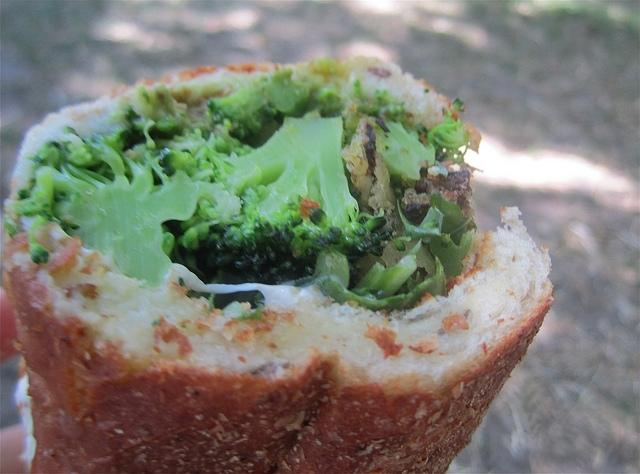broccoli: (15, 106, 244, 286), (180, 116, 412, 284), (356, 90, 469, 198), (253, 66, 320, 118), (160, 151, 200, 177)
